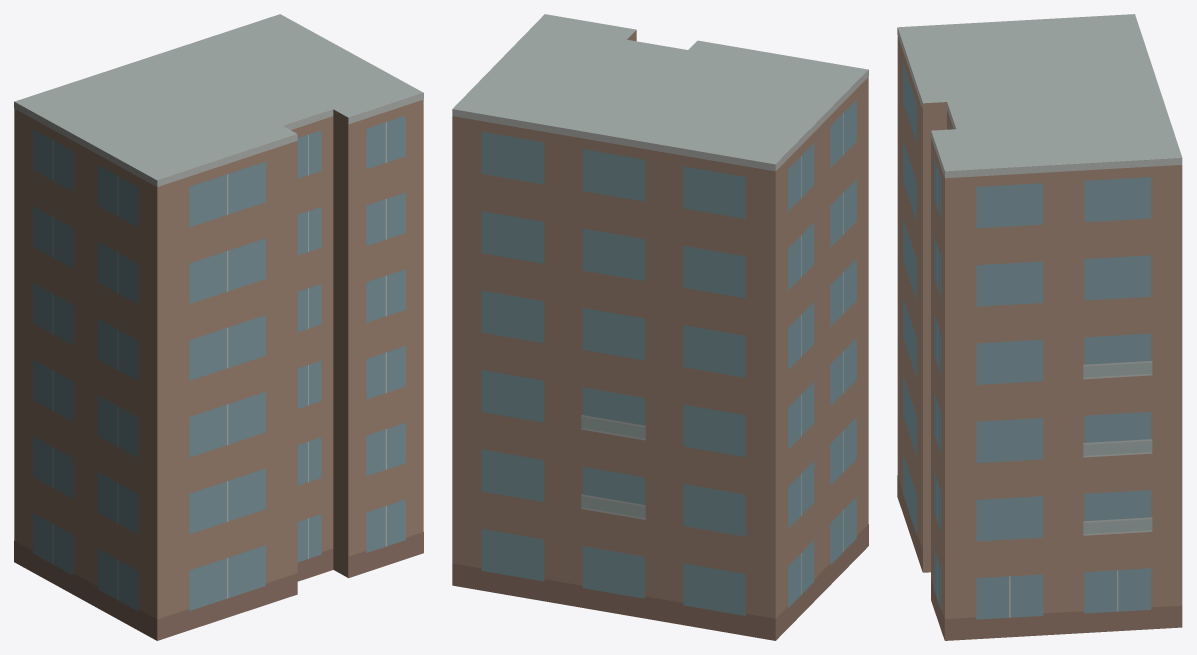
The model's file is survey-upis-32706747.glb.
The picture shows the model from 3 angles, left to right: view 1: azimuth 30°, elevation 25°; view 2: azimuth 150°, elevation 25°; view 3: azimuth 270°, elevation 25°; orthographic projection. The views are drawn at different scales.
Visible parts, largest first — view 1: survey-upis-32706747.tmp; view 2: survey-upis-32706747.tmp; view 3: survey-upis-32706747.tmp.
Part boxes in pixels (box(x1,y1,x2,y2)): survey-upis-32706747.tmp: box(14, 14, 423, 640); survey-upis-32706747.tmp: box(452, 14, 868, 640); survey-upis-32706747.tmp: box(897, 14, 1182, 640).
Size of the model in its own units: 11.94 by 16.6 by 9.14.
